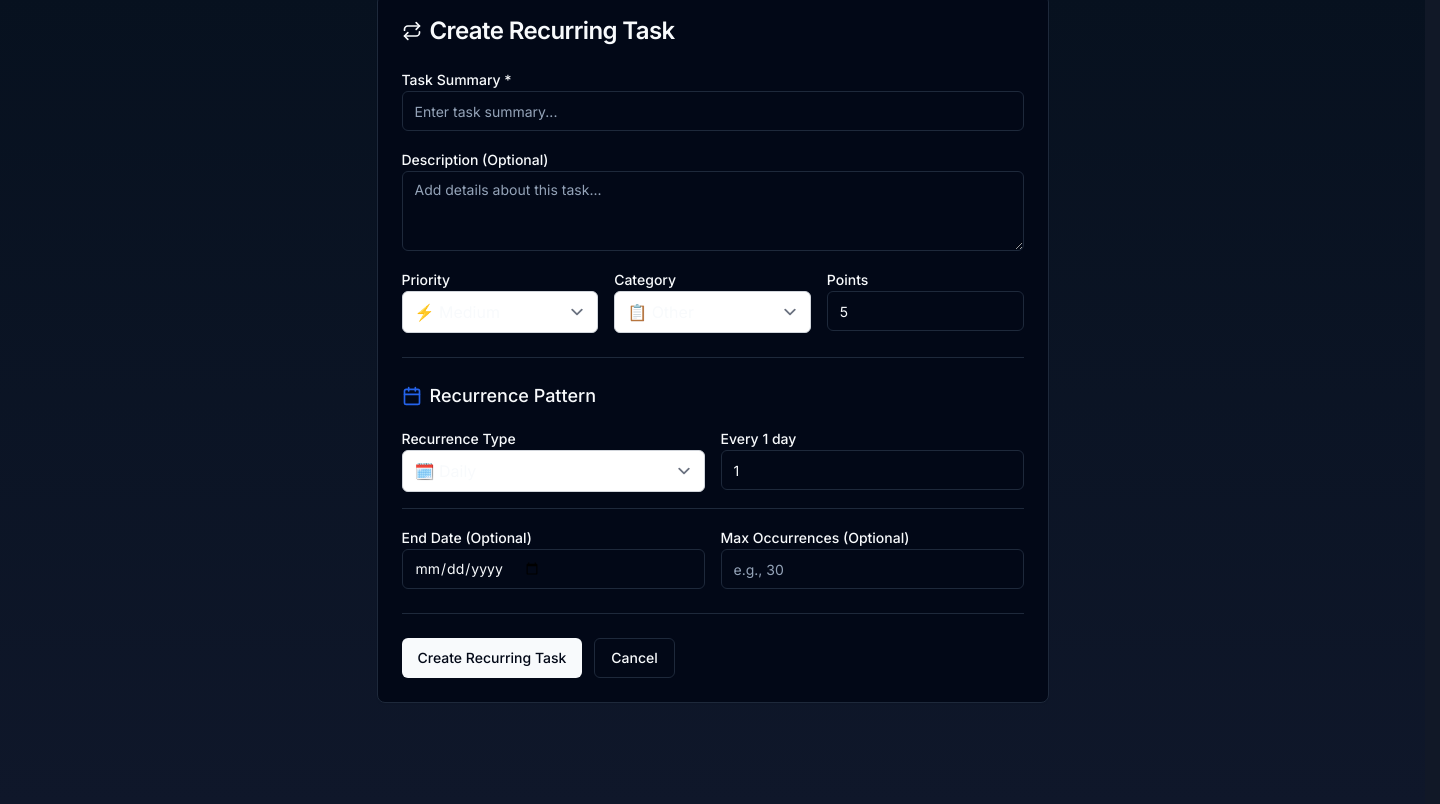
Test: RecurringTaskForm › Form Validation › should require at least one day for weekly recurrence
Type "Test task" into the field labelled "Task Summary *" at (712, 111), box [402,91,1024,131]
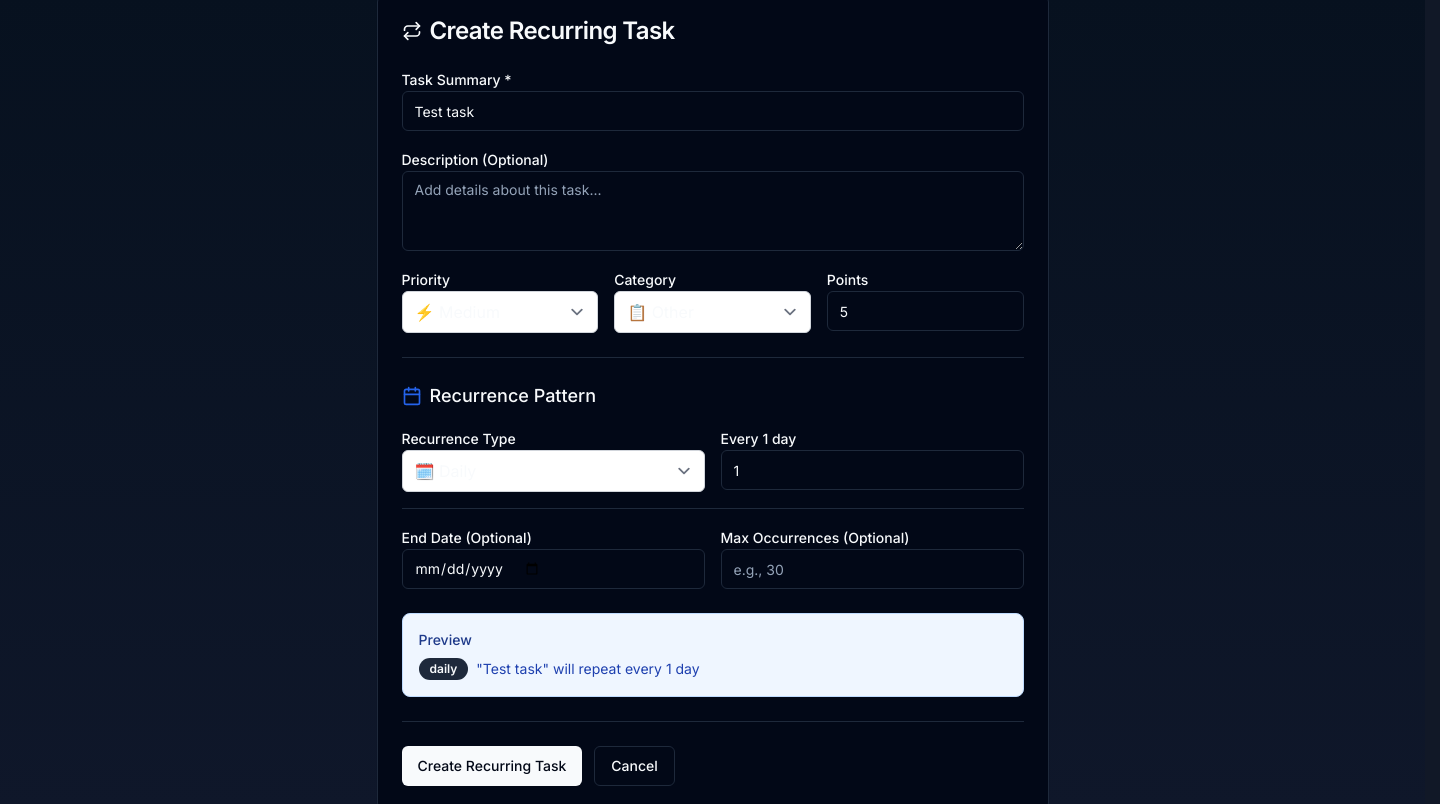
Select "📅 Weekly" in the dropdown labelled "Recurrence Type" at (553, 471), box [402,450,704,492]
(page scrolled)
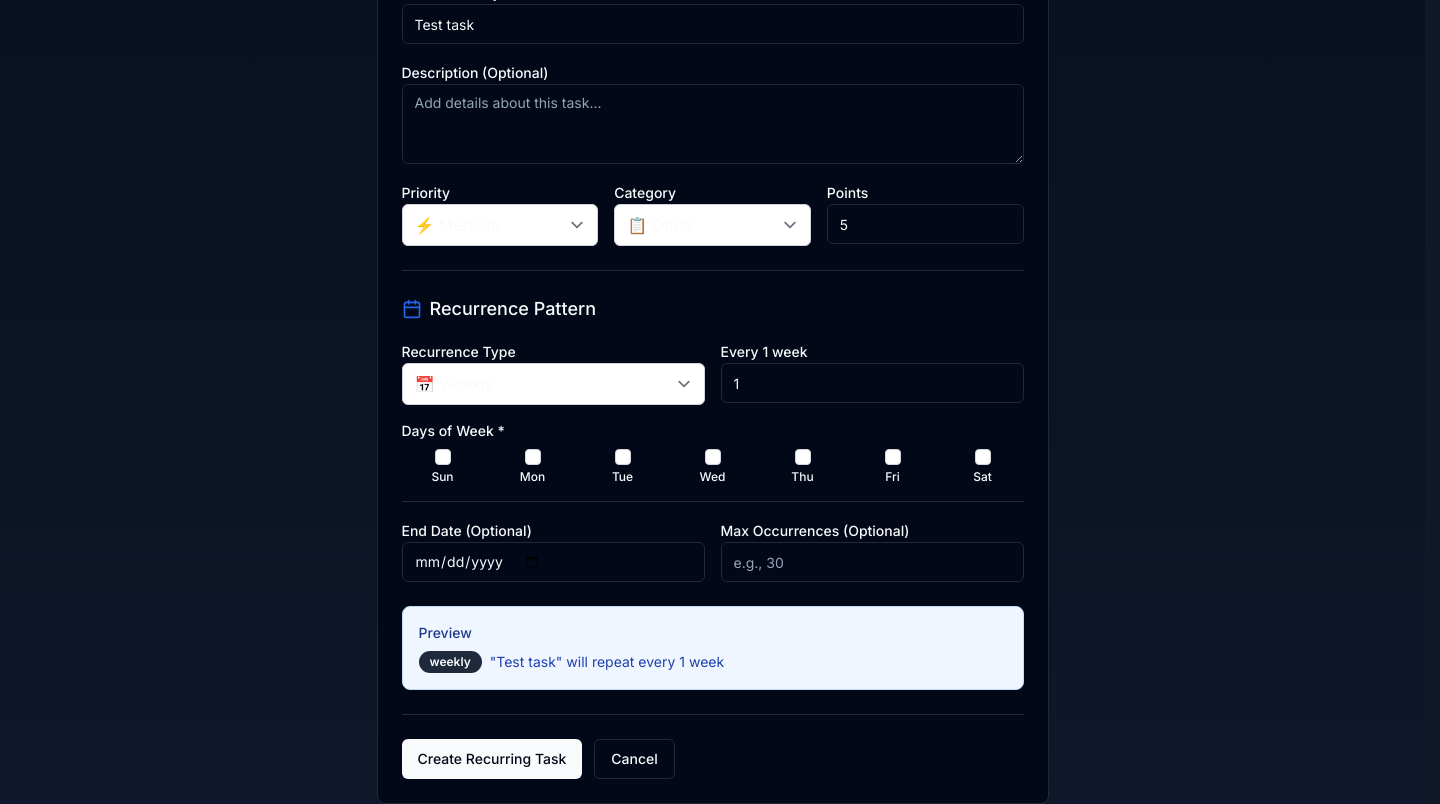
Click the button "Create Recurring Task" at (492, 759), box [402,739,582,779]
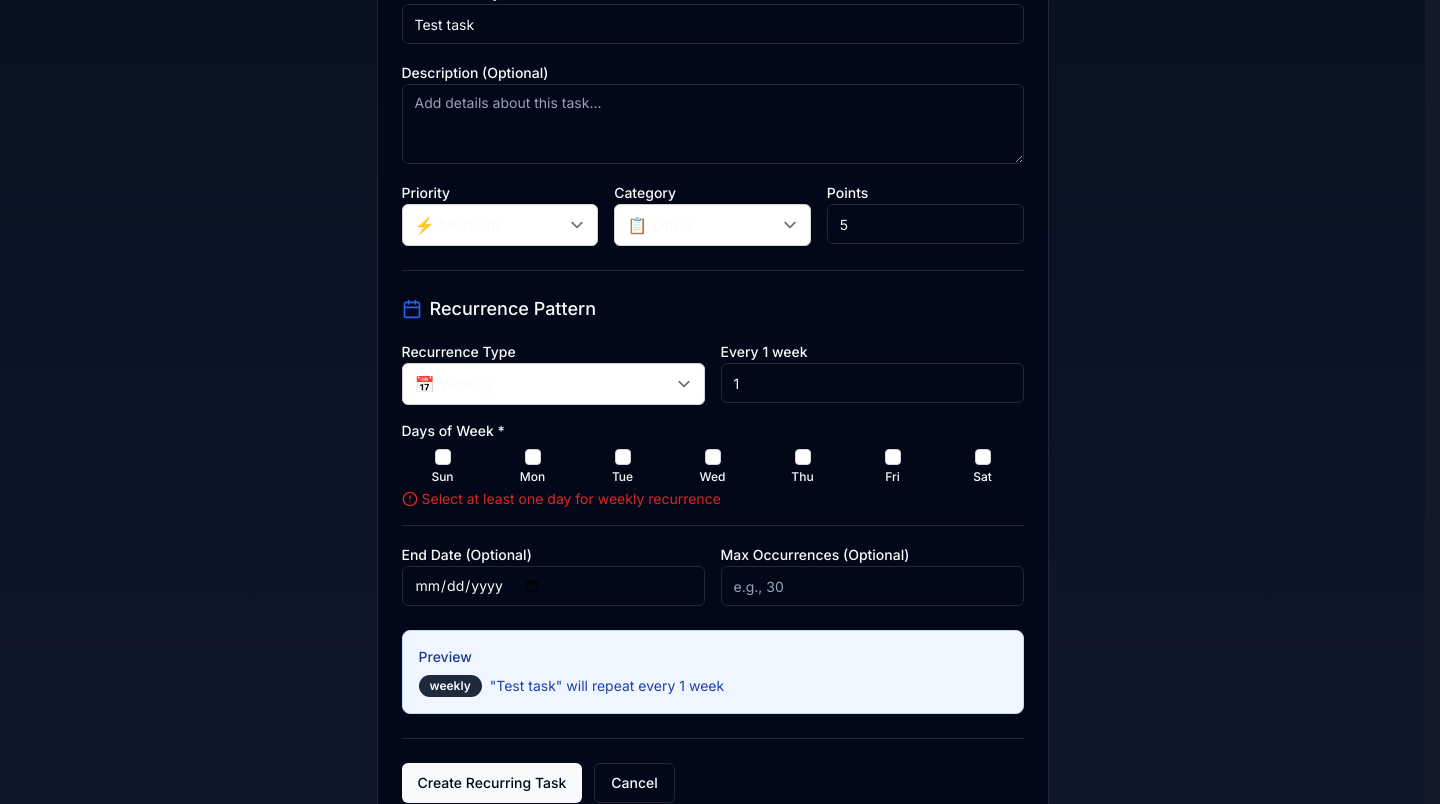
Now the text "Select at least one day for weekly recurrence" is shown, box [402,490,721,507]
